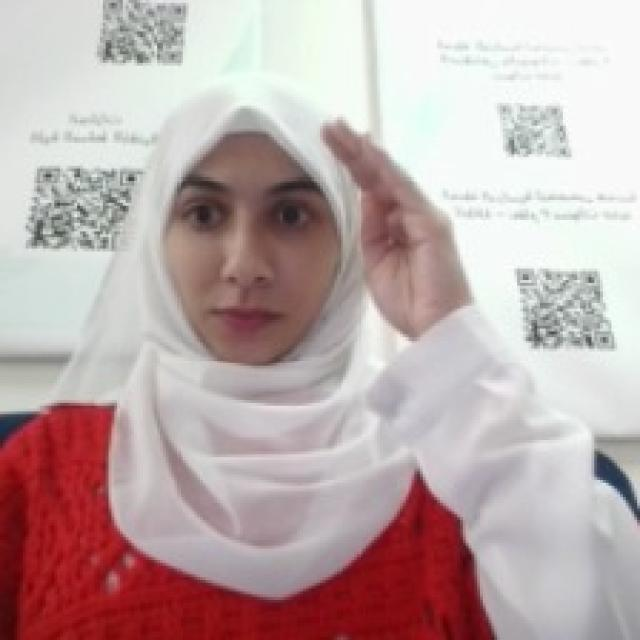Thanks: (314, 109, 469, 328)
